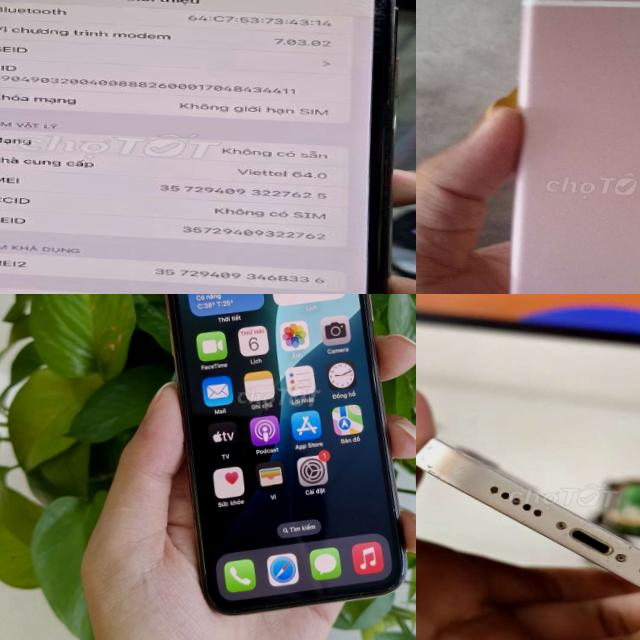gen_12_13: (416, 437, 640, 640)
gen_6: (508, 0, 640, 294)
gen_x_xs: (0, 0, 416, 294), (137, 294, 416, 628)
